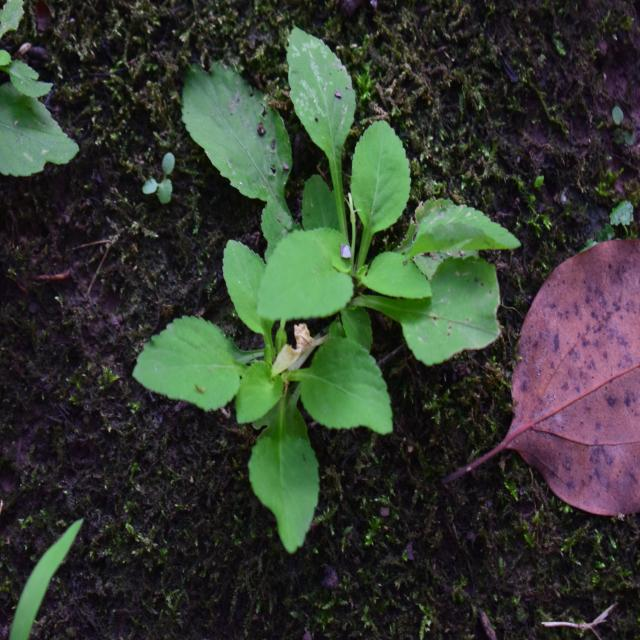Viola: (177, 61, 482, 488)
